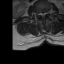CCS_stenosis: (42, 10, 44, 19)
LFS_normal: (47, 8, 49, 17)
LLS_normal: (44, 9, 47, 17)
RFS_normal: (36, 10, 39, 19)
RLS_normal: (39, 10, 42, 17)
